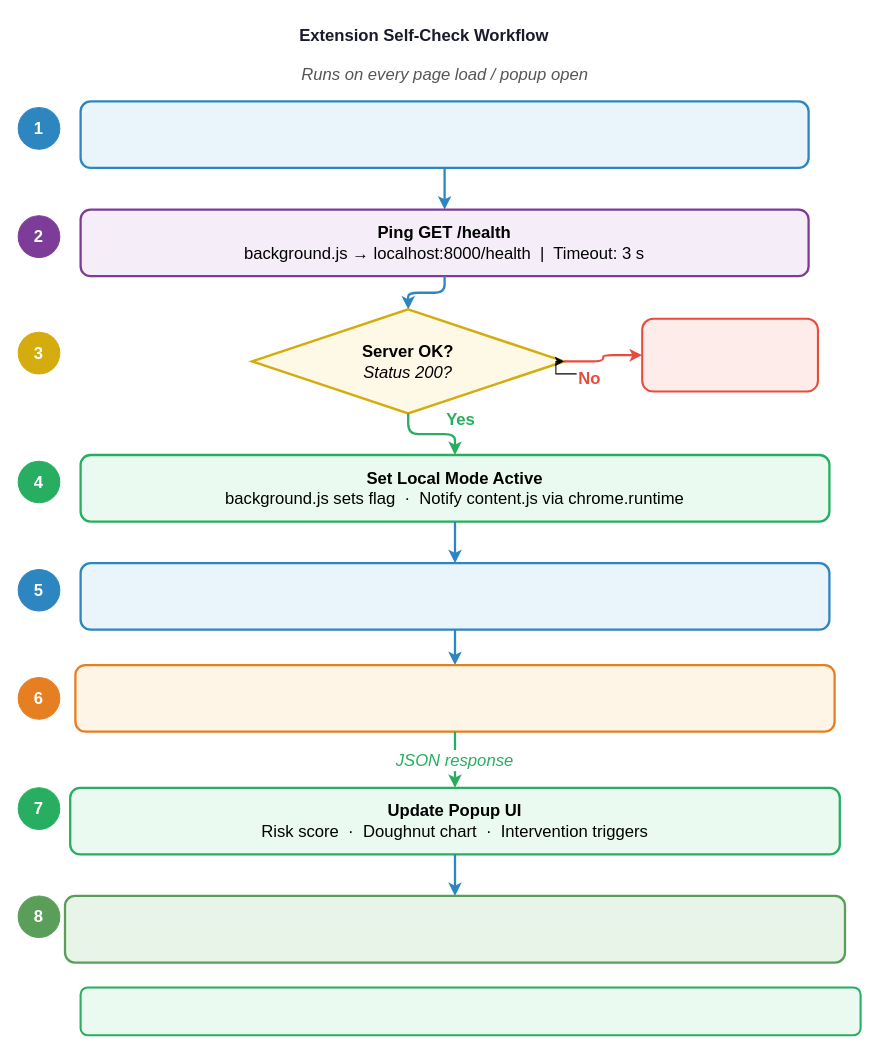
The diagram is 889 pixels wide and 1054 high, and some of its shapes have lost their labels. The shapes that lost their labels are listed below. From the top down, each one's centre as x and y in pixels, then its label:
At point (444, 134): "Trigger Page load · Popup opened · Manual scan initiated".
At point (729, 354): "Set Flag Cloud Mode".
At point (454, 595): "Extract Comments content.js · Max 100 items · De-duplicate".
At point (454, 697): "POST /api/analyze JSON array → FastAPI → ONNX Inference → Risk Score".
At point (454, 928): "Log Session to SQLite background.js → POST /api/events → wellbeing.db".
At point (470, 1011): "All steps run locally · No external API calls".
